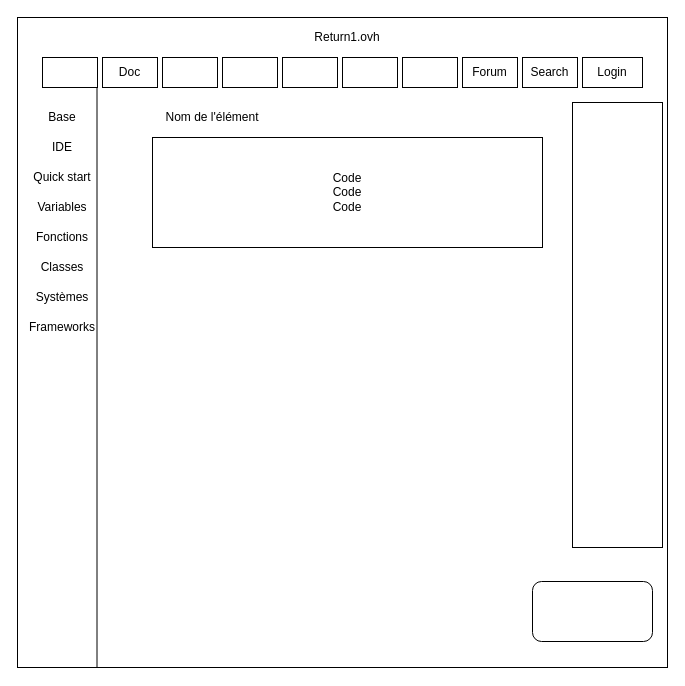
The diagram is 685 pixels wide and 686 high, and some of its shapes have lost their labels. The box of each missing label's shape, as (x1, y1, x2, y2) in pixels:
Home: (42, 56, 98, 88)
Langage: (532, 580, 652, 642)
Sommaire ?: (572, 102, 662, 548)
